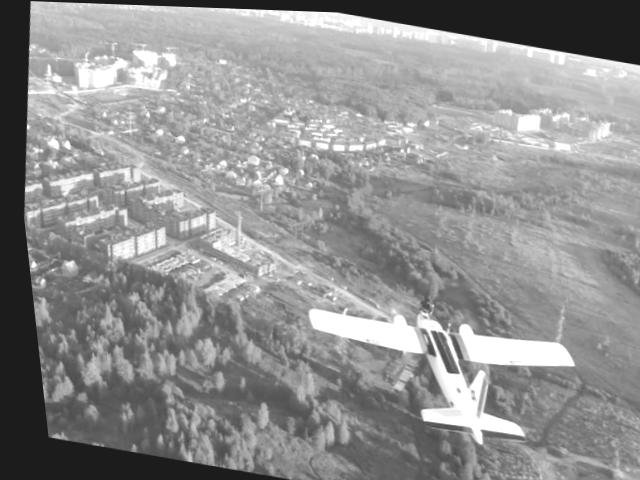hedef: (280, 277, 594, 470)
